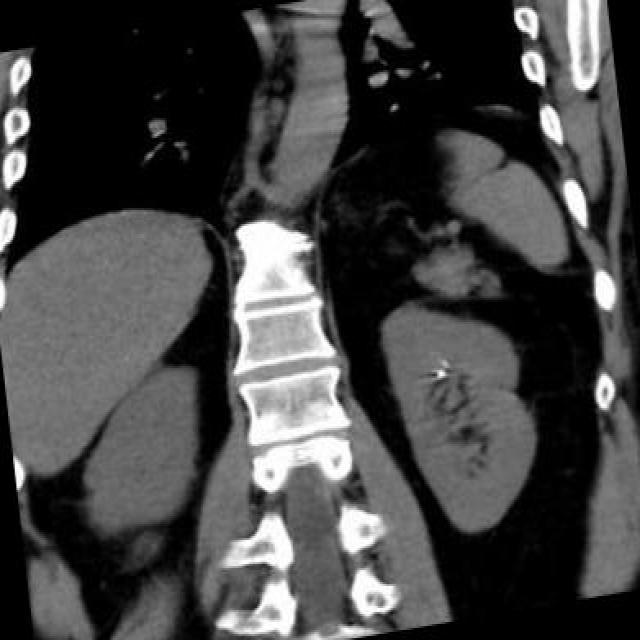Tas_Var: (434, 366, 447, 380), (436, 356, 451, 368)
